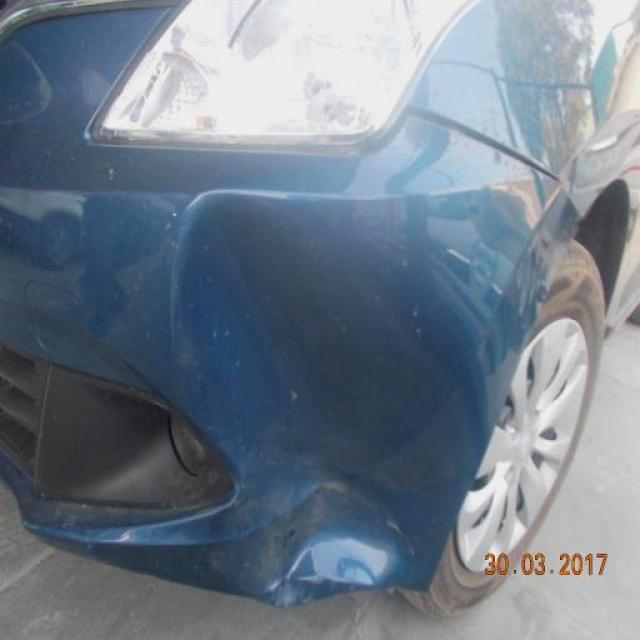car damage: (173, 188, 479, 611), (412, 99, 583, 215)
